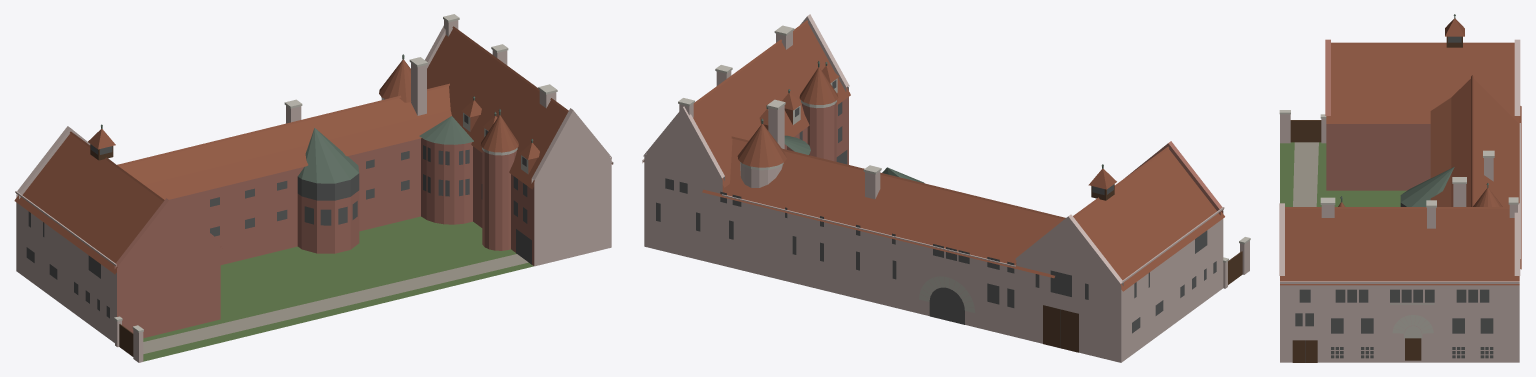
Rendered from glessner_house__as_built_1887.glb.
The picture shows the model from 3 angles, left to right: view 1: azimuth 30°, elevation 25°; view 2: azimuth 150°, elevation 25°; view 3: azimuth 270°, elevation 25°; orthographic projection. The views are drawn at different scales.
Visible parts, largest first — view 1: glessner_house__as_built_1887; view 2: glessner_house__as_built_1887; view 3: glessner_house__as_built_1887.
Boxes of the visible parts, x1,y1,x2,y2 form: glessner_house__as_built_1887: [14, 14, 613, 362]; glessner_house__as_built_1887: [642, 14, 1250, 362]; glessner_house__as_built_1887: [1279, 14, 1521, 362].
Bounding box in the file's own units: 49.64 × 15.86 × 22.84.
